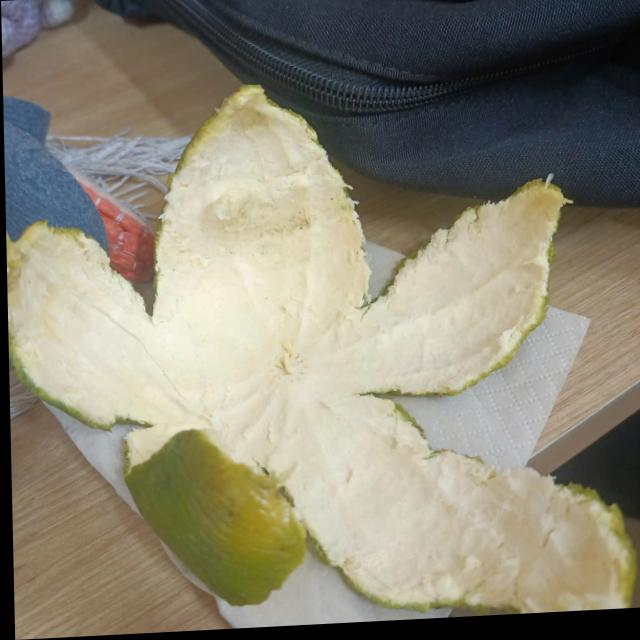Cam: (9, 91, 640, 609)
